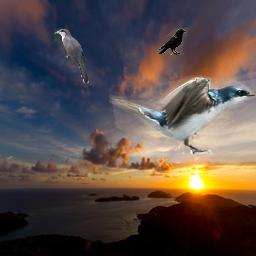Crow: (157, 28, 187, 55)
Cuckoo: (54, 28, 90, 85)
Swallow: (109, 75, 256, 154)
